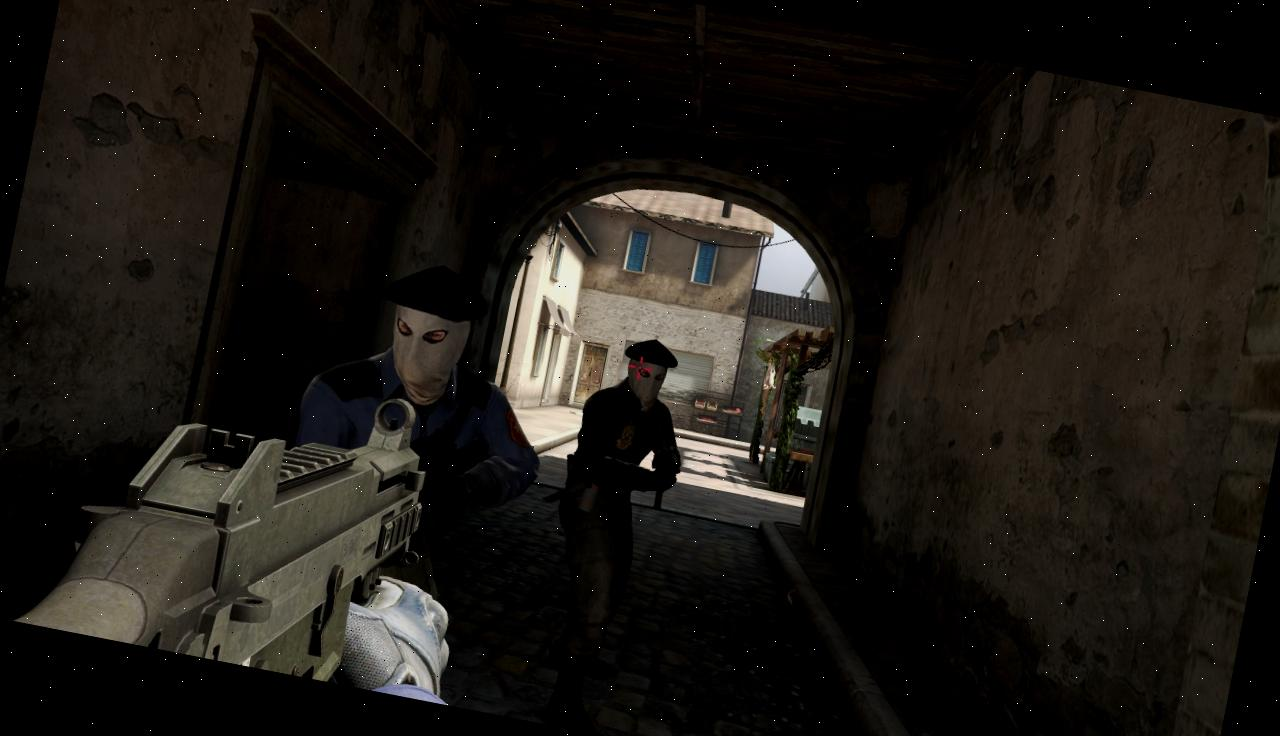rifle: (11, 334, 445, 694)
tt: (517, 326, 691, 736), (305, 244, 566, 475)
tthead: (375, 262, 487, 406), (614, 335, 681, 410)
